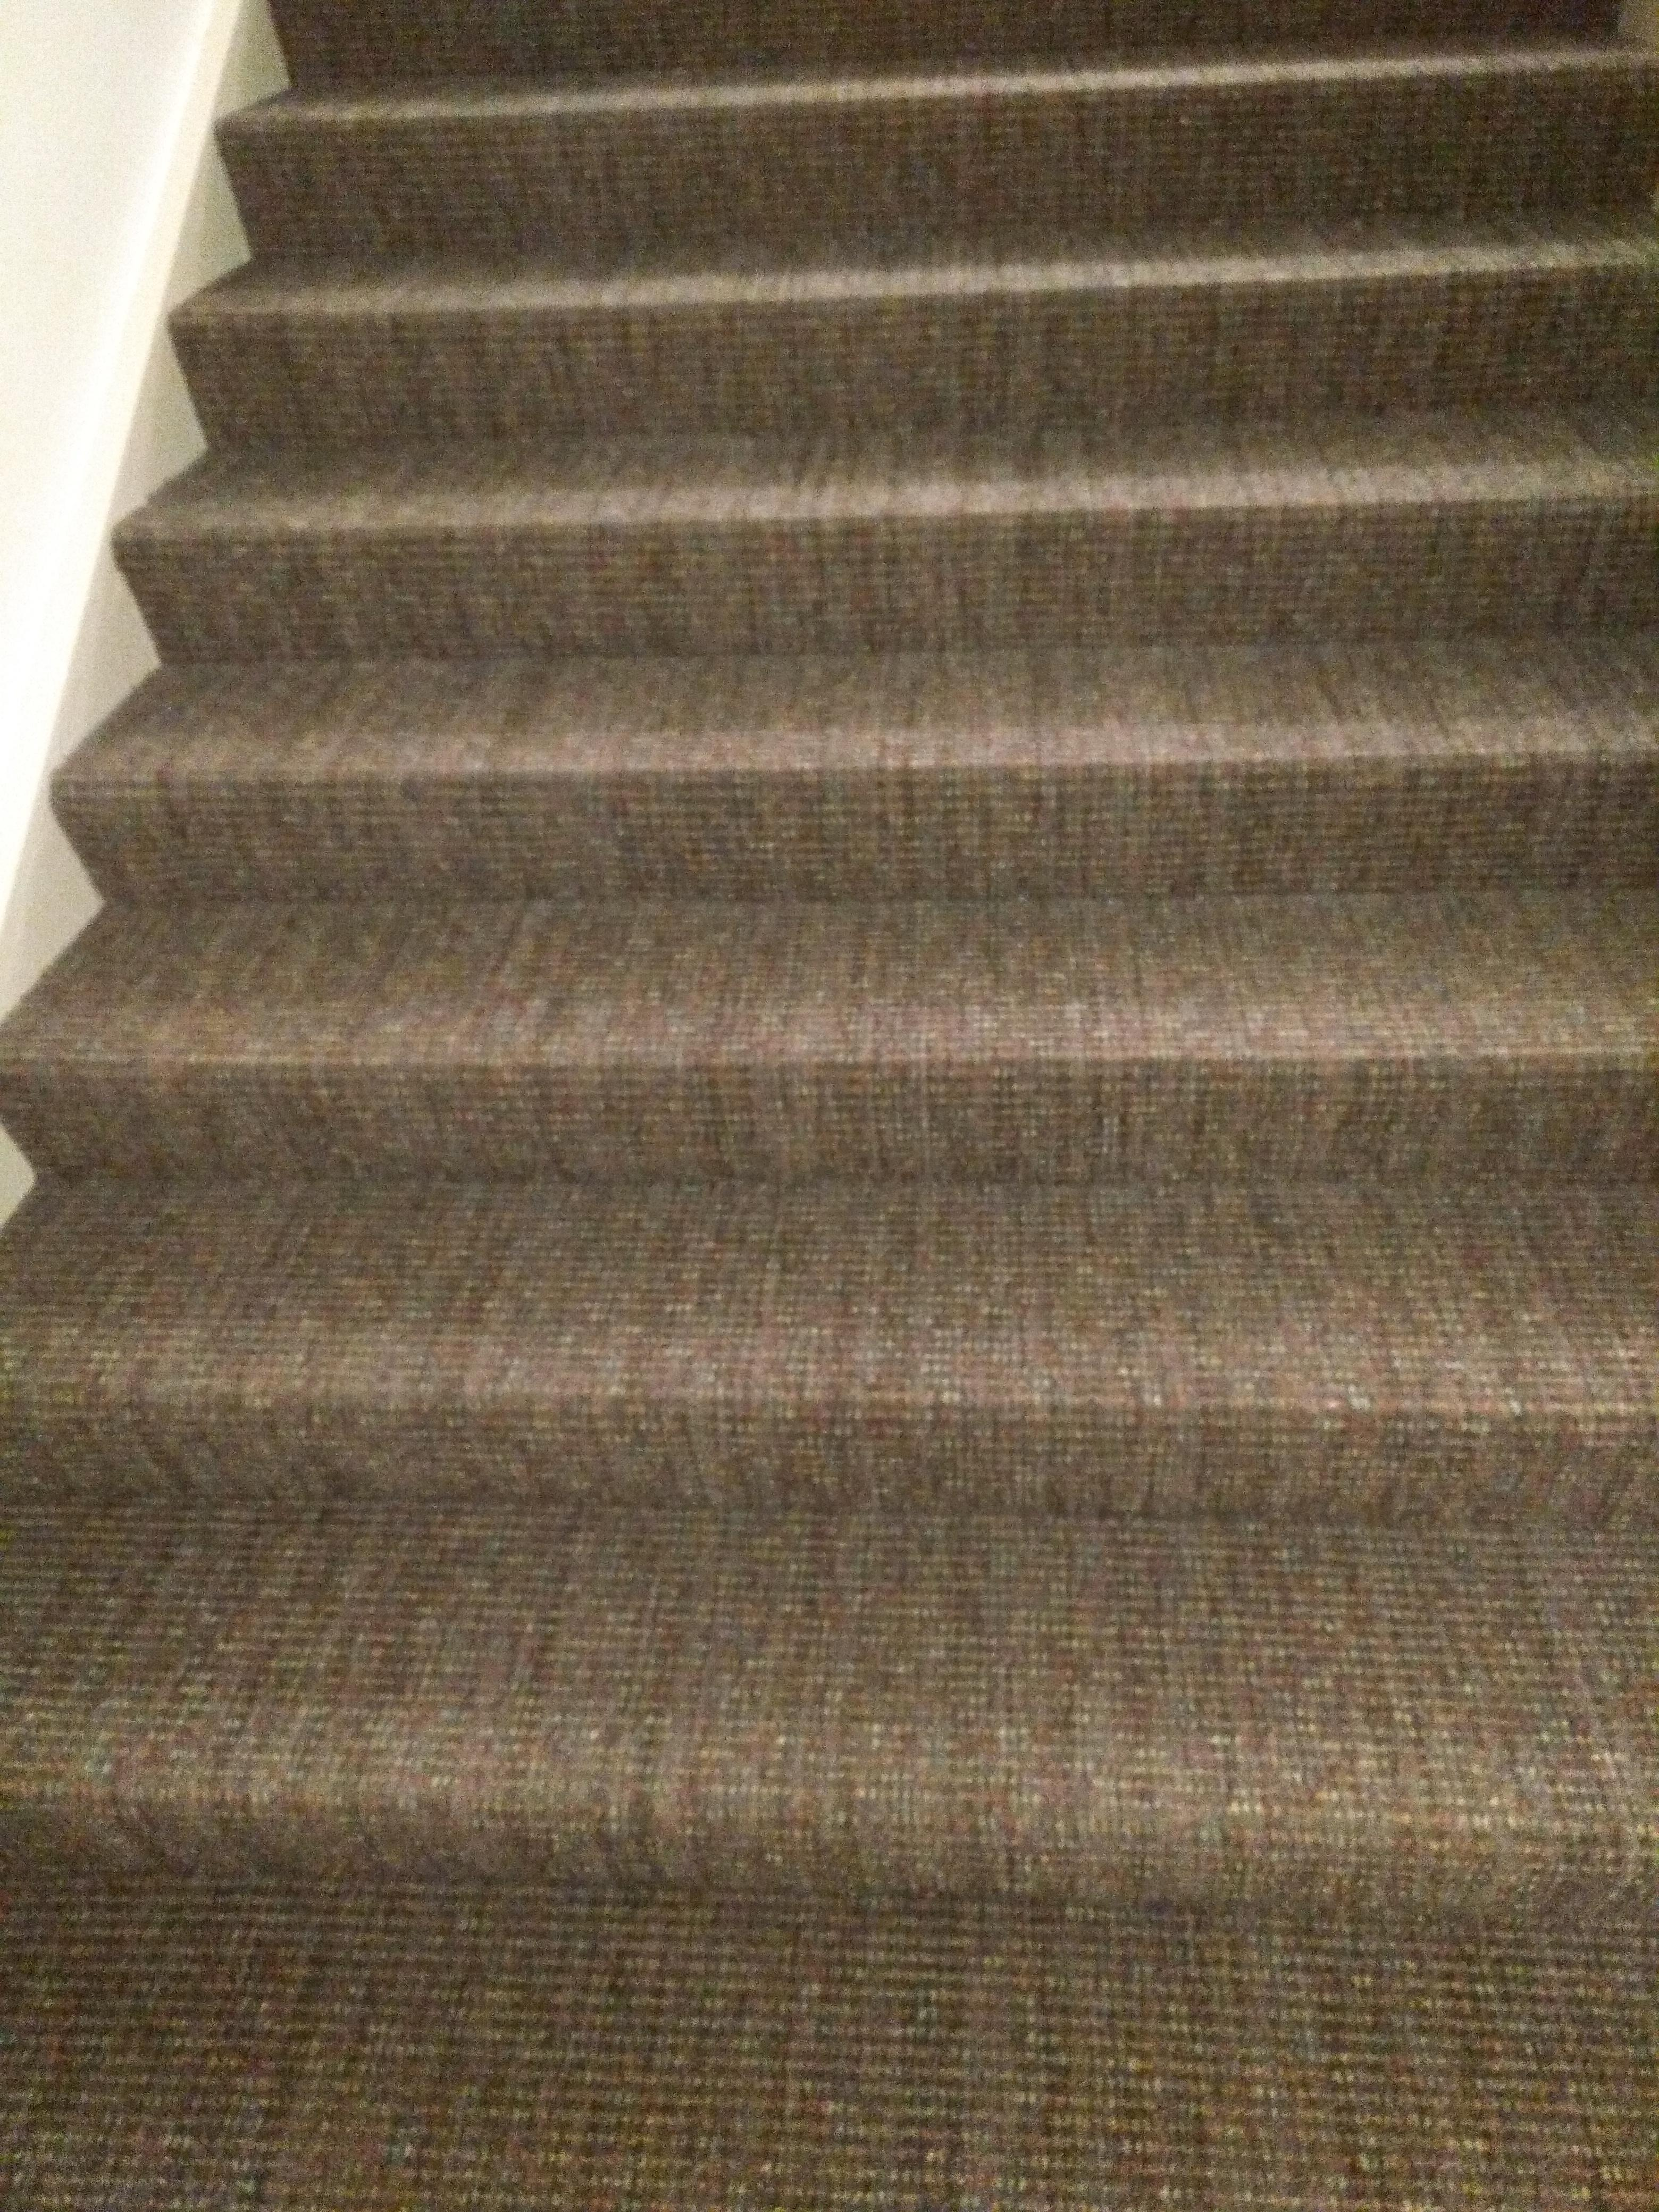stairs_up: (16, 19, 1647, 1928)
